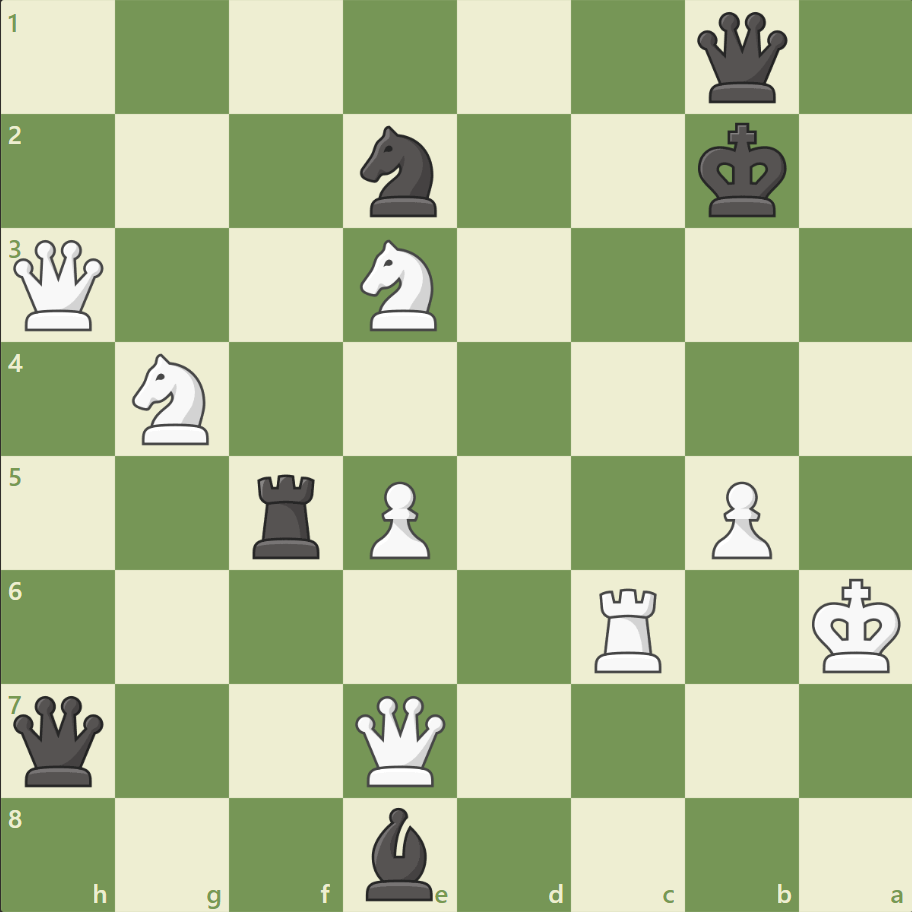K: (806, 571, 906, 679)
N: (351, 234, 449, 337), (124, 348, 222, 450)
P: (701, 473, 776, 564), (361, 473, 435, 564)
Q: (351, 690, 450, 789), (10, 236, 109, 335)
R: (587, 579, 670, 676)
b: (358, 801, 442, 904)
k: (692, 117, 792, 225)
n: (351, 121, 449, 223)
q: (10, 690, 109, 789), (691, 9, 790, 108)
r: (246, 466, 329, 563)
